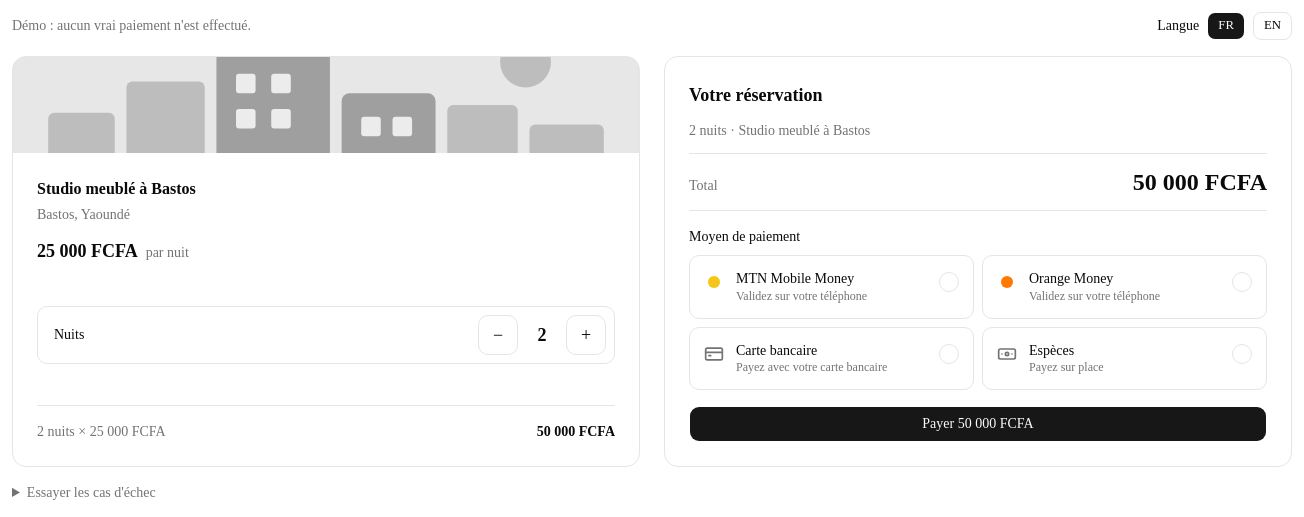
Test: <BookingDemo /> language › switches everything to English, including the number format
This screenshot has width=1304, height=517.
Click the button "EN". click: (1272, 26)
box: [1253, 12, 1292, 40]
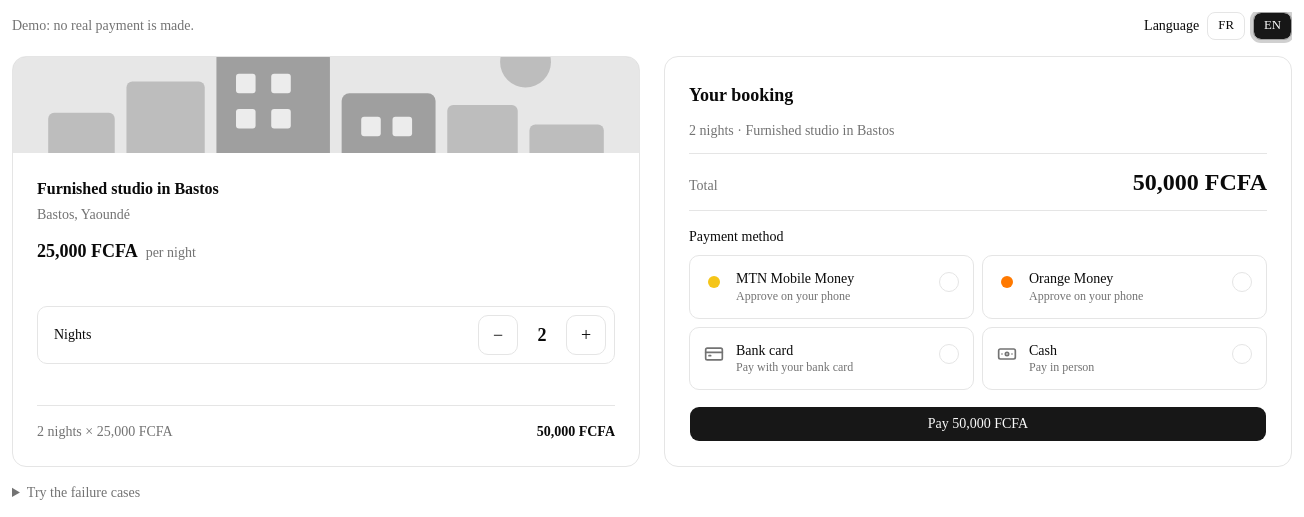
Result: the heading "Furnished studio in Bastos" is shown at [37, 180, 219, 197]
Result: the element "Nights" is shown at [37, 306, 615, 364]
Result: the element that starts with "Your booking" is shown at [689, 85, 793, 105]
